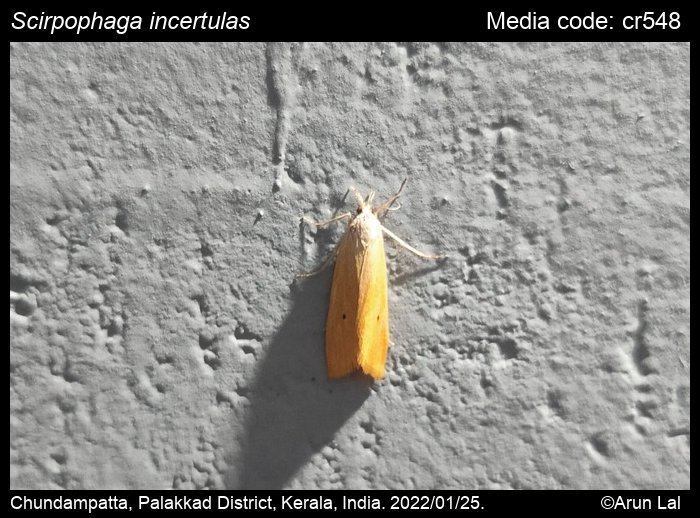Crambidae: (288, 181, 433, 385)
